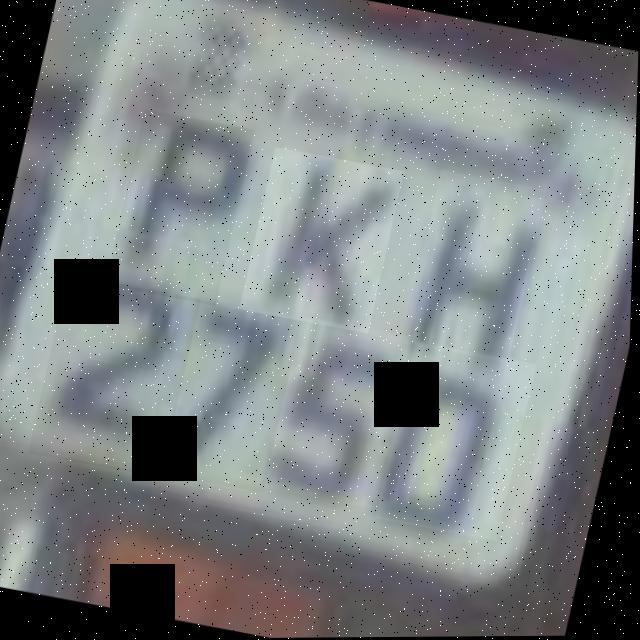0: (378, 341, 539, 542)
2: (30, 275, 203, 479)
5: (266, 316, 415, 510)
7: (144, 298, 304, 495)
H: (404, 170, 548, 364)
K: (241, 147, 406, 335)
P: (106, 109, 256, 308)
